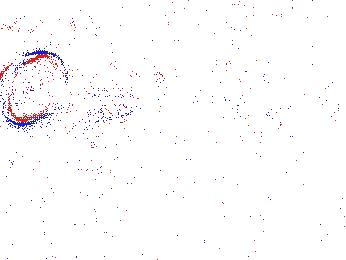moon jellyfish: (236, 37, 306, 136), (280, 37, 346, 119), (1, 52, 68, 125), (86, 111, 150, 165), (84, 59, 168, 98)
